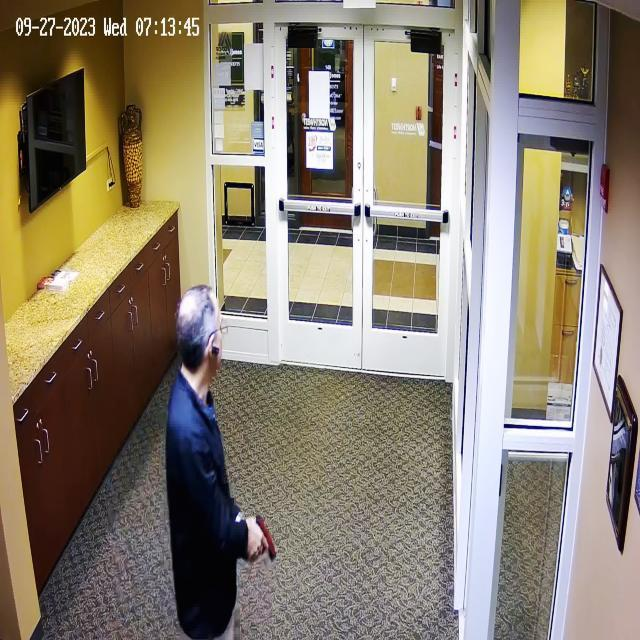Gun: (242, 500, 276, 560)
